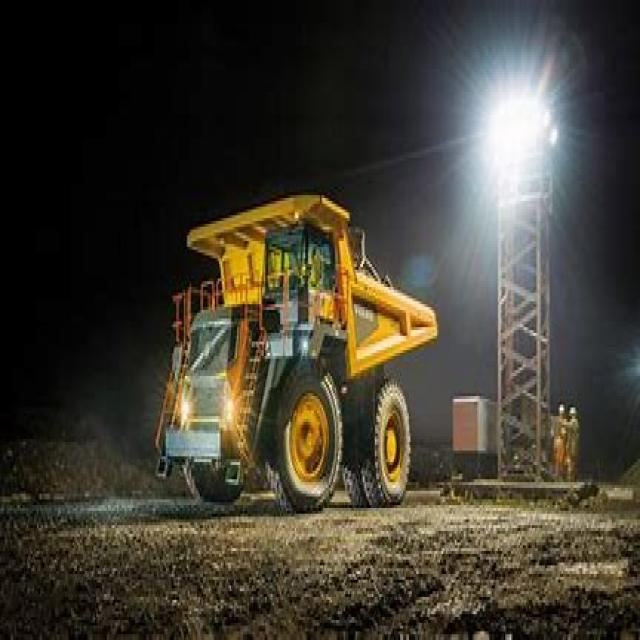dump_truck: (157, 187, 437, 525)
